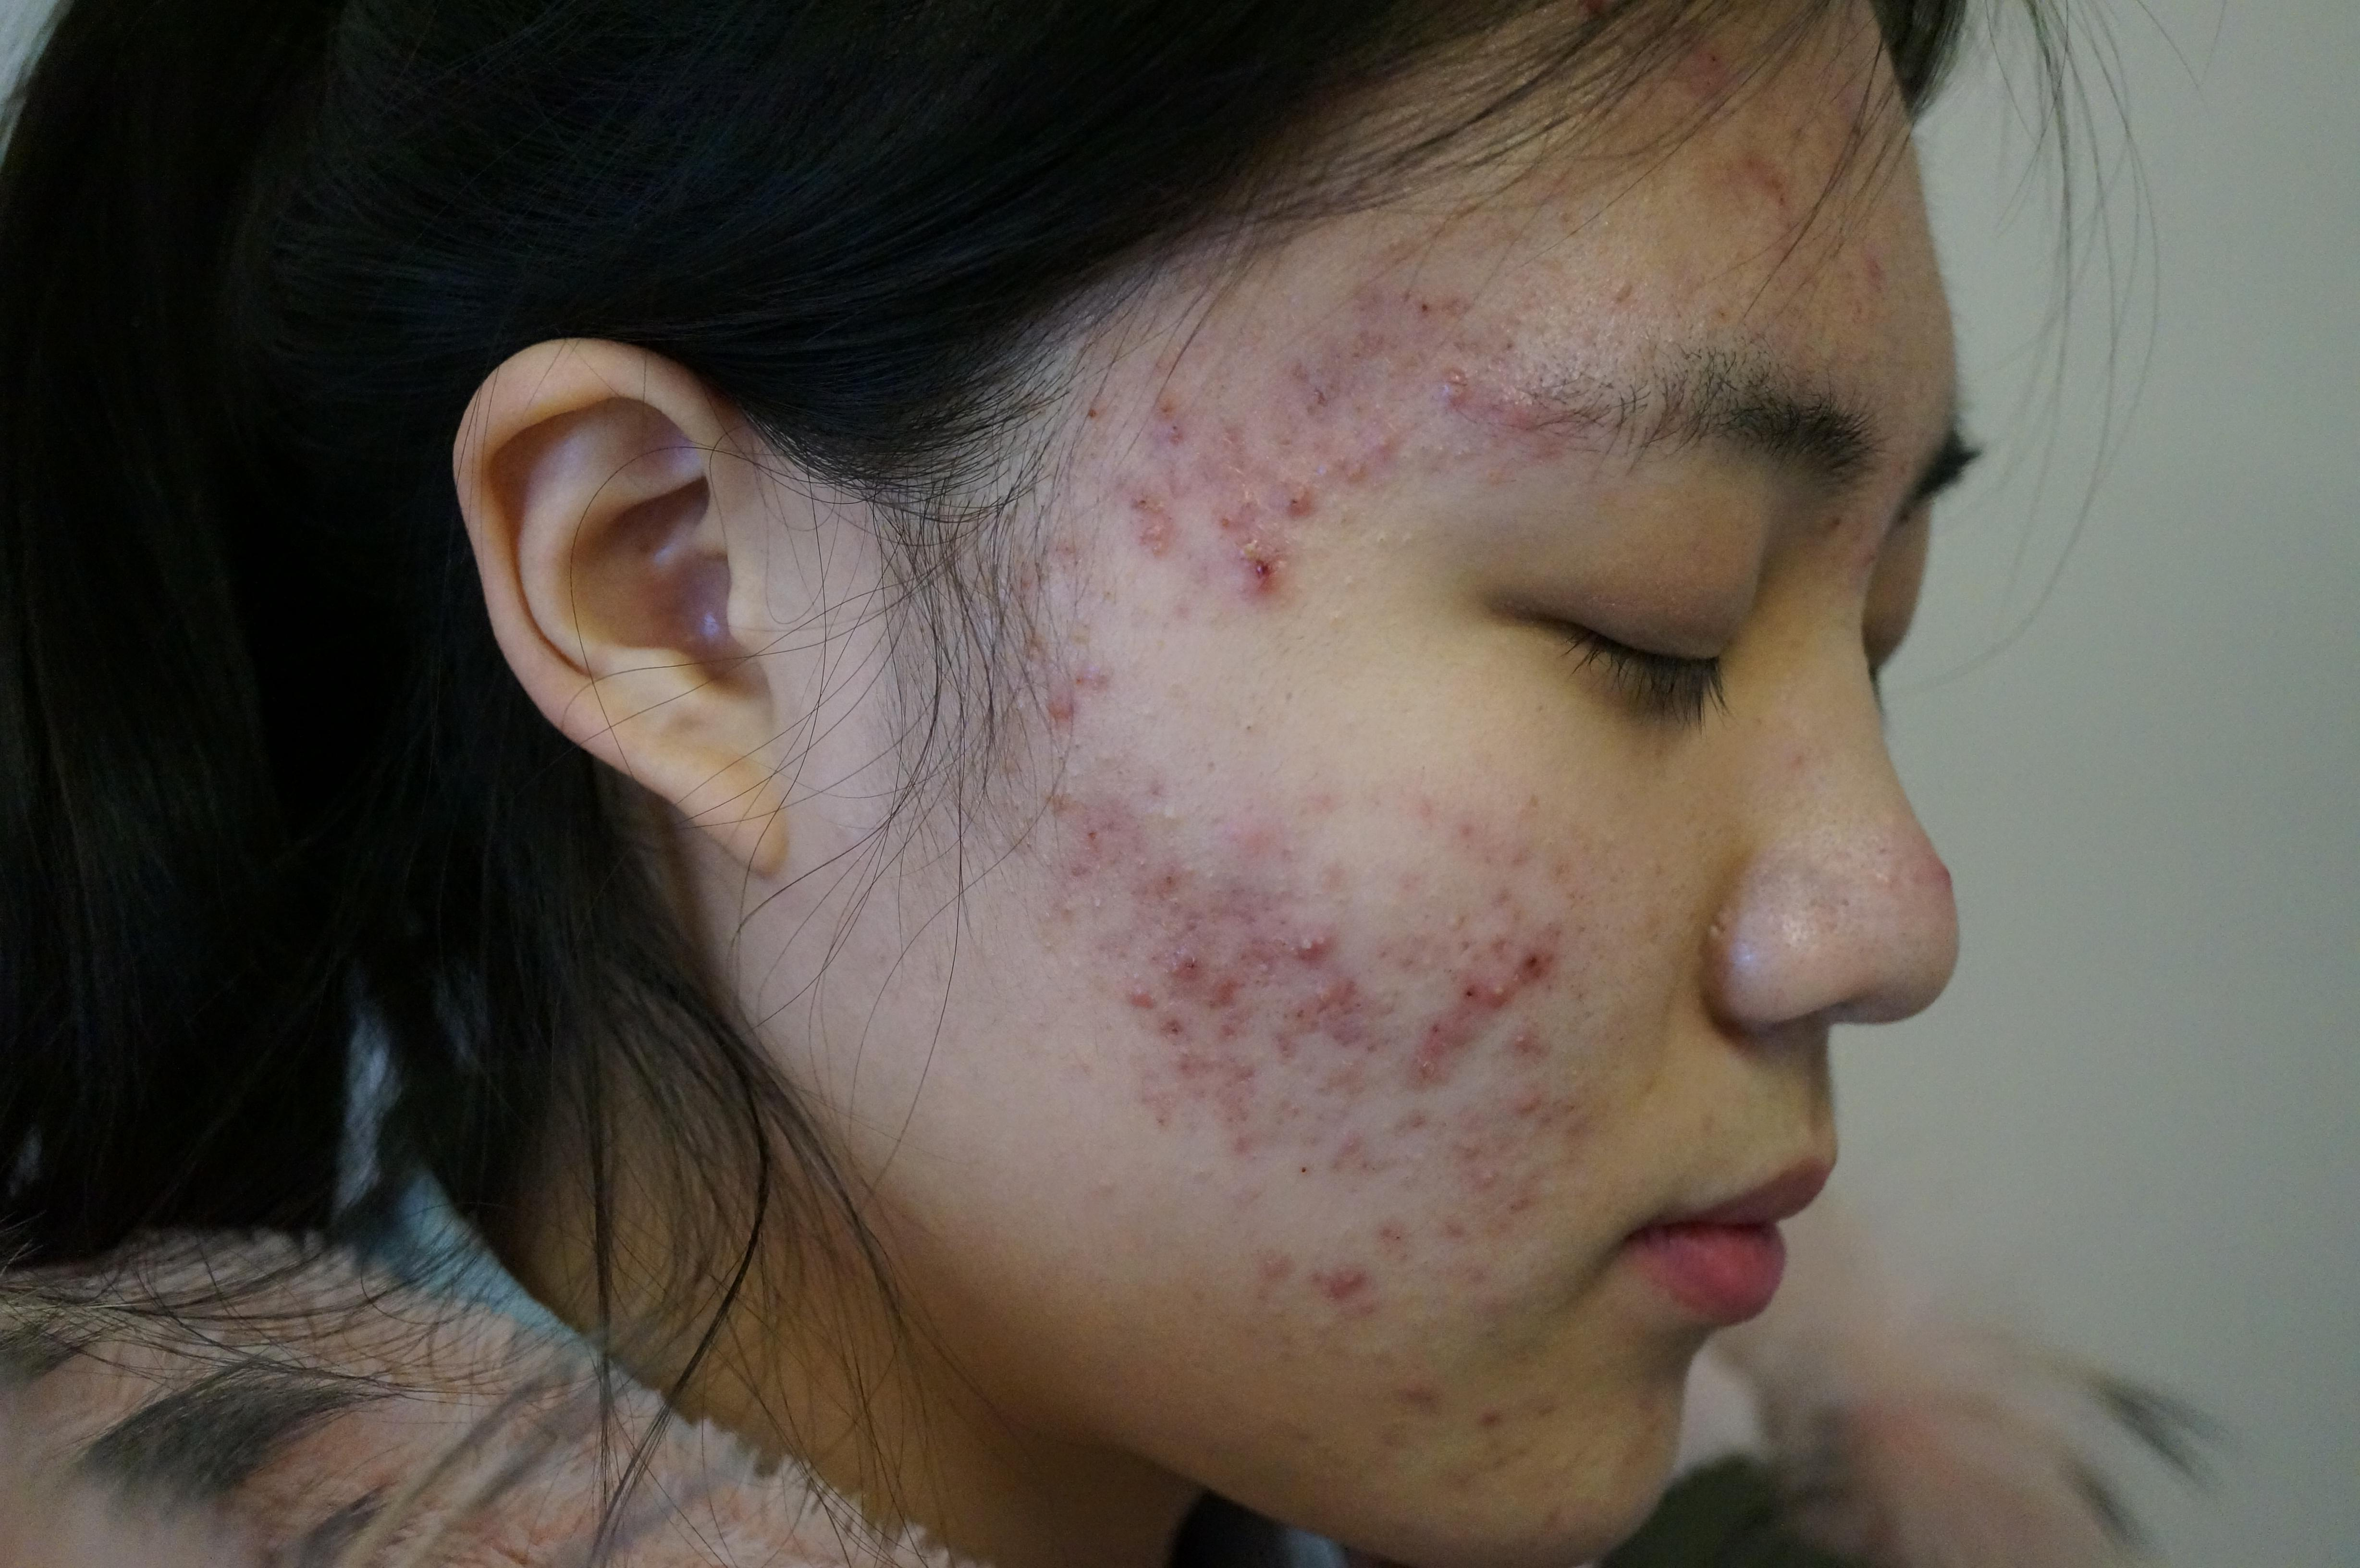fore: (1093, 362, 1249, 465), (1016, 649, 1141, 744), (1246, 901, 1373, 973), (1249, 441, 1333, 534), (1205, 525, 1296, 609), (1305, 1223, 1380, 1325), (1065, 773, 1141, 873), (1156, 1036, 1240, 1116), (1337, 413, 1424, 490), (1393, 1363, 1468, 1452), (1461, 952, 1524, 1052), (1707, 145, 1788, 217), (1321, 294, 1393, 362), (1452, 1144, 1524, 1213), (1508, 929, 1573, 1004), (1436, 357, 1499, 425), (1405, 1004, 1456, 1088), (1165, 908, 1225, 973), (1125, 506, 1177, 577), (1508, 1073, 1564, 1132), (1113, 964, 1156, 1036), (1300, 345, 1344, 409), (1125, 873, 1177, 924), (1296, 964, 1340, 1017)
